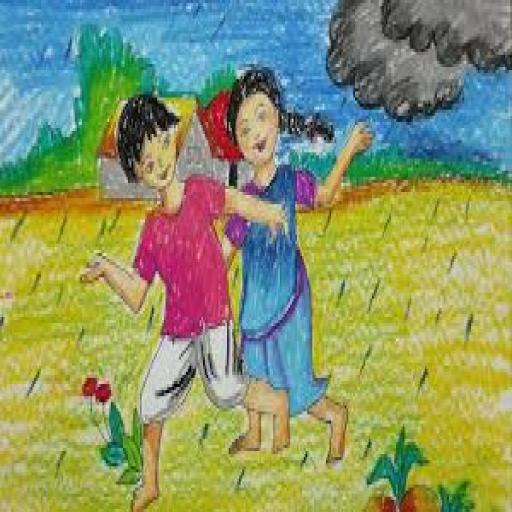person: (79, 56, 290, 509), (224, 53, 378, 468)
